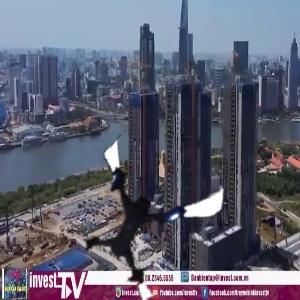drone: (66, 138, 214, 286)
